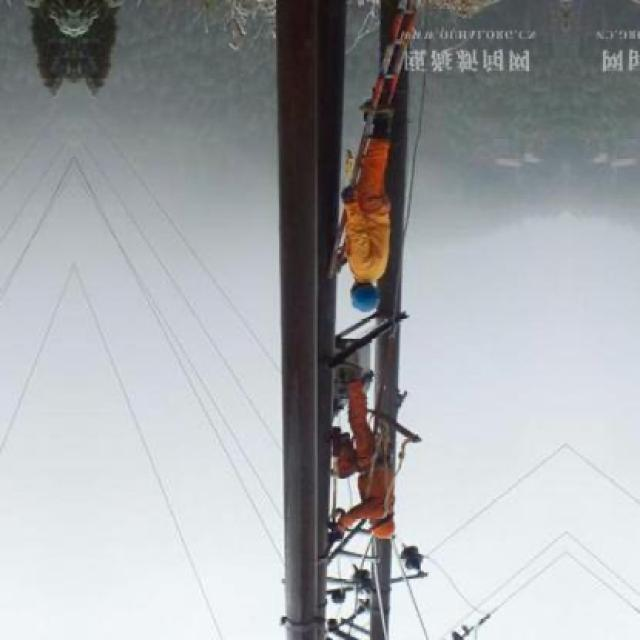con casco: (346, 206, 399, 320), (371, 444, 408, 540)
